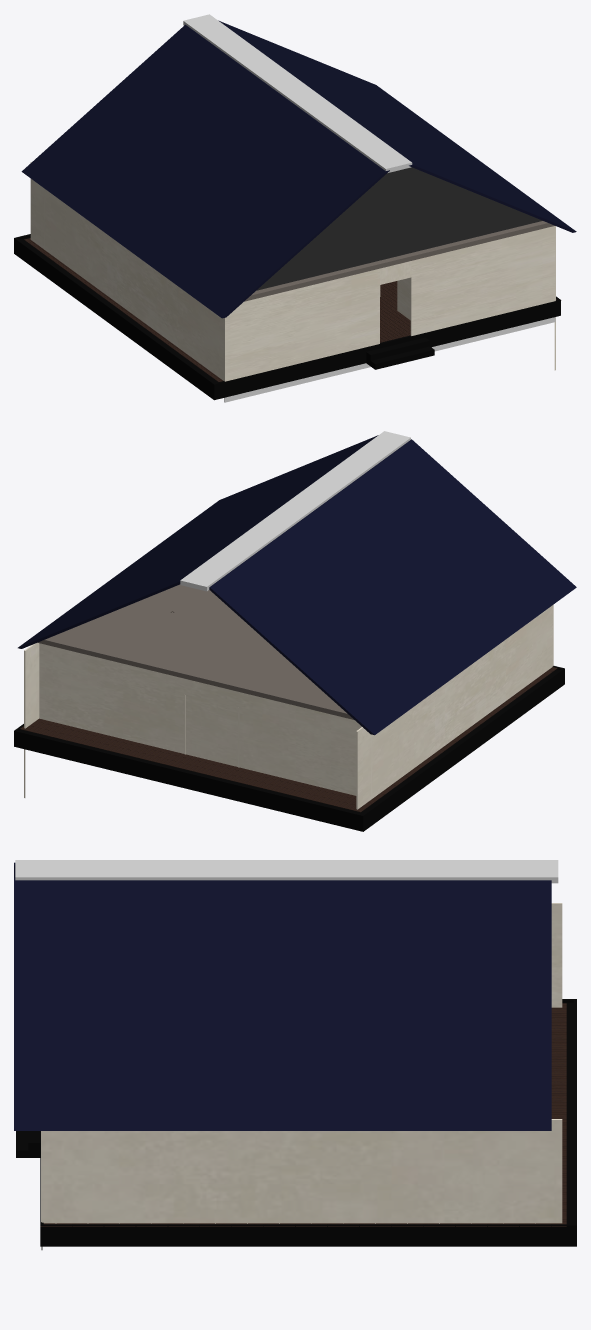
File: House3.fbx
3 renders of one model, top to bottom at view 1: azimuth 30°, elevation 25°; view 2: azimuth 150°, elevation 25°; view 3: azimuth 270°, elevation 25°, orthographic. The views are drawn at different scales.
Parts seen in each view (by area): view 1: Cube.024, Wall 6.001, Cube.027, Wall 2.001, Cube.025, Cube.002, Cube.026, Cube.011, Floor, Wall top 1.001, Wall top 1.002, Wall .012; view 2: Cube.024, Wall 4, Cube.011, Wall 2.001, Cube.002, Cube.025, Floor, Cube.026, Wall 2; view 3: Cube.025, Wall 2, Cube.002, Cube.026, Floor, Wall 2.001.
Boxes of the visible parts, x1,y1,x2,y2 form: Cube.024: (21, 24, 389, 318); Wall 6.001: (224, 226, 555, 381); Cube.027: (256, 167, 542, 290); Wall 2.001: (30, 162, 224, 380); Cube.025: (218, 20, 576, 232); Cube.002: (14, 234, 560, 400); Cube.026: (183, 14, 412, 172); Cube.011: (244, 221, 554, 301); Floor: (24, 238, 561, 382); Wall top 1.001: (224, 317, 555, 402); Wall top 1.002: (380, 261, 411, 284); Wall .012: (397, 277, 410, 320); Cube.024: (209, 439, 576, 735); Wall 4: (39, 643, 372, 799); Cube.011: (38, 584, 353, 719); Wall 2.001: (356, 605, 552, 809); Cube.002: (14, 666, 564, 831); Cube.025: (18, 435, 378, 648); Floor: (20, 667, 557, 812); Cube.026: (180, 431, 410, 591); Wall 2: (24, 642, 39, 797); Cube.025: (14, 877, 551, 1130); Wall 2: (41, 1119, 562, 1223); Cube.002: (16, 999, 576, 1246); Cube.026: (15, 860, 558, 883); Floor: (40, 1003, 566, 1226); Wall 2.001: (551, 903, 562, 1007).
Bounding box in the file's own units: 16440 × 11165 × 16854.
